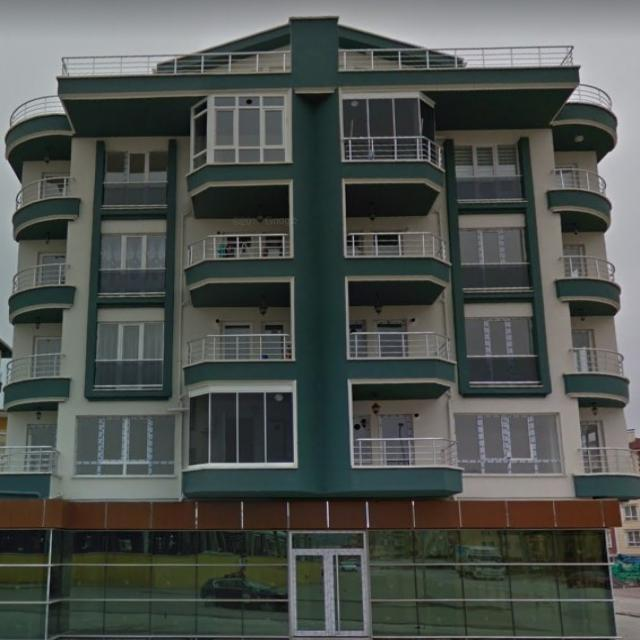Building: (0, 16, 640, 640)
